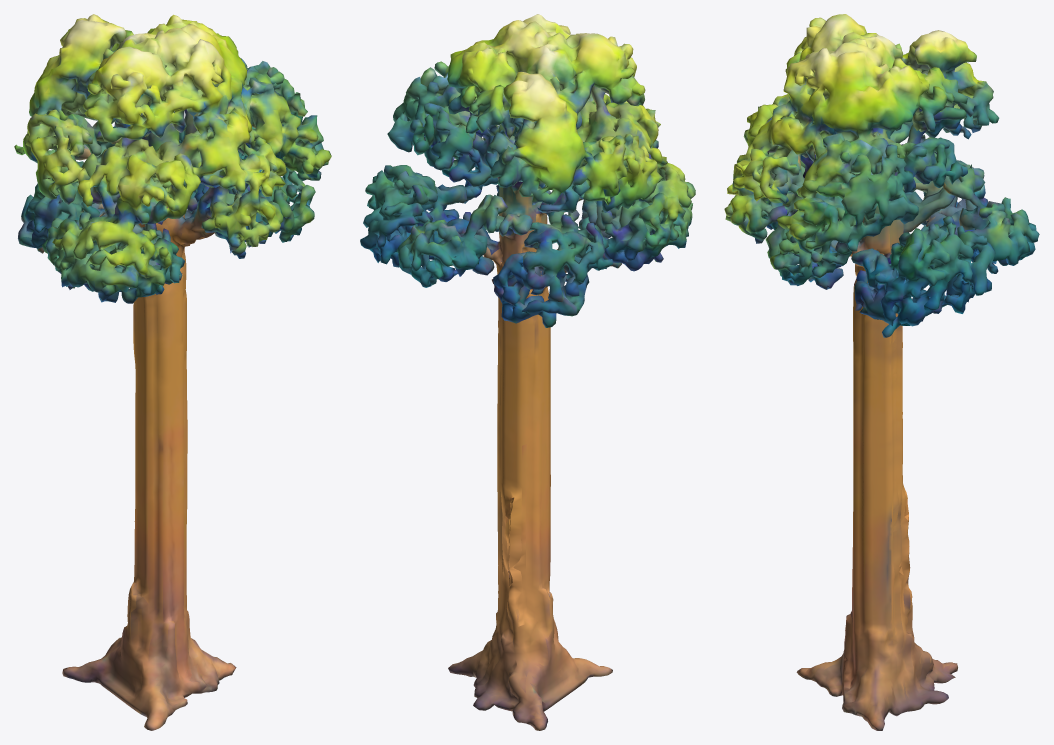
File: SrenityTreeSmall.fbx
The picture shows the model from 3 angles, left to right: view 1: azimuth 30°, elevation 25°; view 2: azimuth 150°, elevation 25°; view 3: azimuth 270°, elevation 25°; orthographic projection. The views are drawn at different scales.
Parts seen in each view (by area): view 1: Mesh_0; view 2: Mesh_0; view 3: Mesh_0.
Boxes of the visible parts, x1,y1,x2,y2 form: Mesh_0: (14,14,331,730); Mesh_0: (360,14,695,730); Mesh_0: (724,14,1039,730).
Size of the model in its own units: 84.3 by 201 by 87.32.
1 material, 1 textured.
